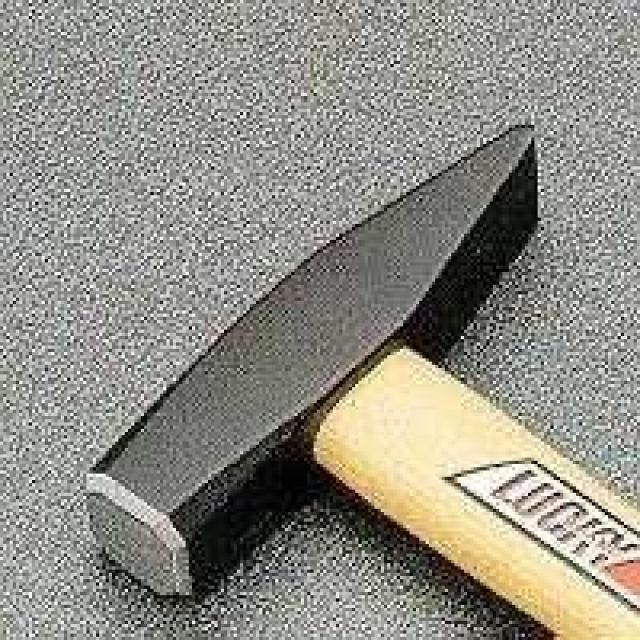hammer: (89, 125, 640, 640)
